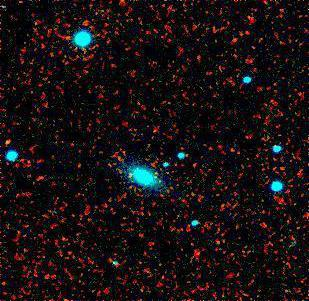star: (0, 127, 24, 157)
